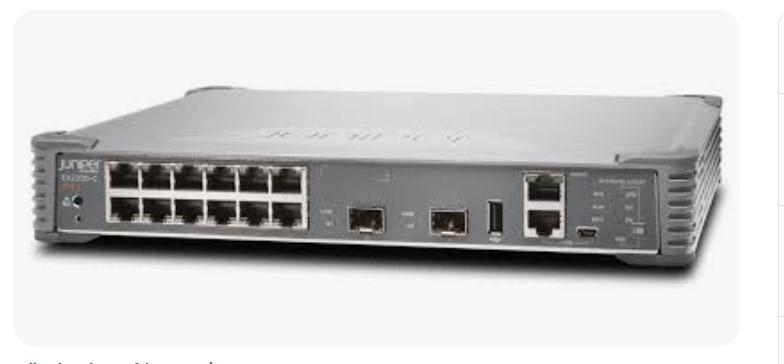NetworkSwitch: (29, 87, 723, 272)
